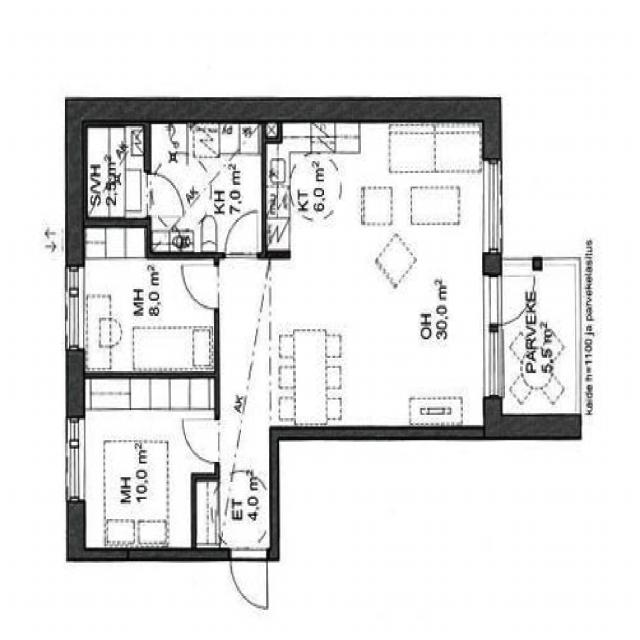door: (230, 548, 267, 608), (490, 276, 535, 325), (181, 264, 219, 308), (181, 418, 219, 462), (225, 208, 257, 258), (146, 174, 183, 216)
